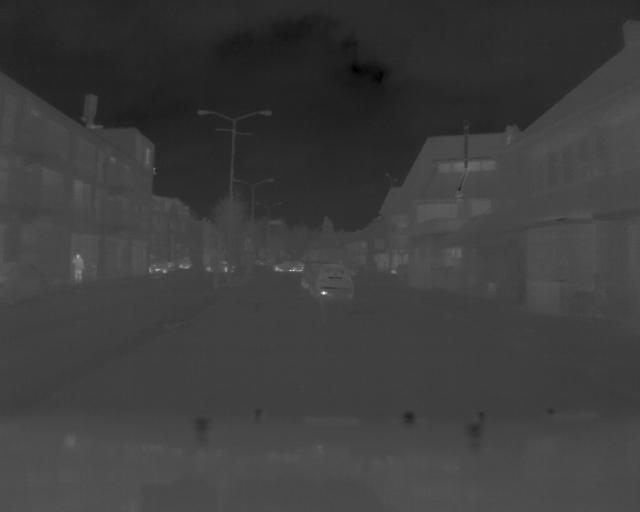car: (1, 260, 53, 306), (311, 260, 357, 302), (203, 257, 237, 274), (274, 258, 305, 273), (147, 256, 173, 272), (177, 252, 192, 271)
person: (69, 248, 84, 287)
